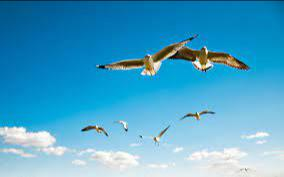bird: (174, 105, 220, 125), (107, 114, 132, 131)
